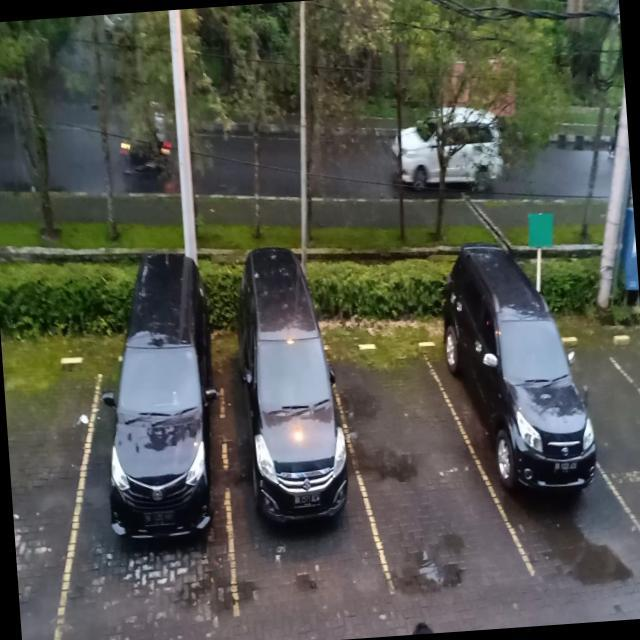empty: (342, 332, 478, 594), (579, 316, 640, 553)
occupied: (68, 312, 240, 626), (212, 321, 374, 617), (448, 296, 608, 573)
